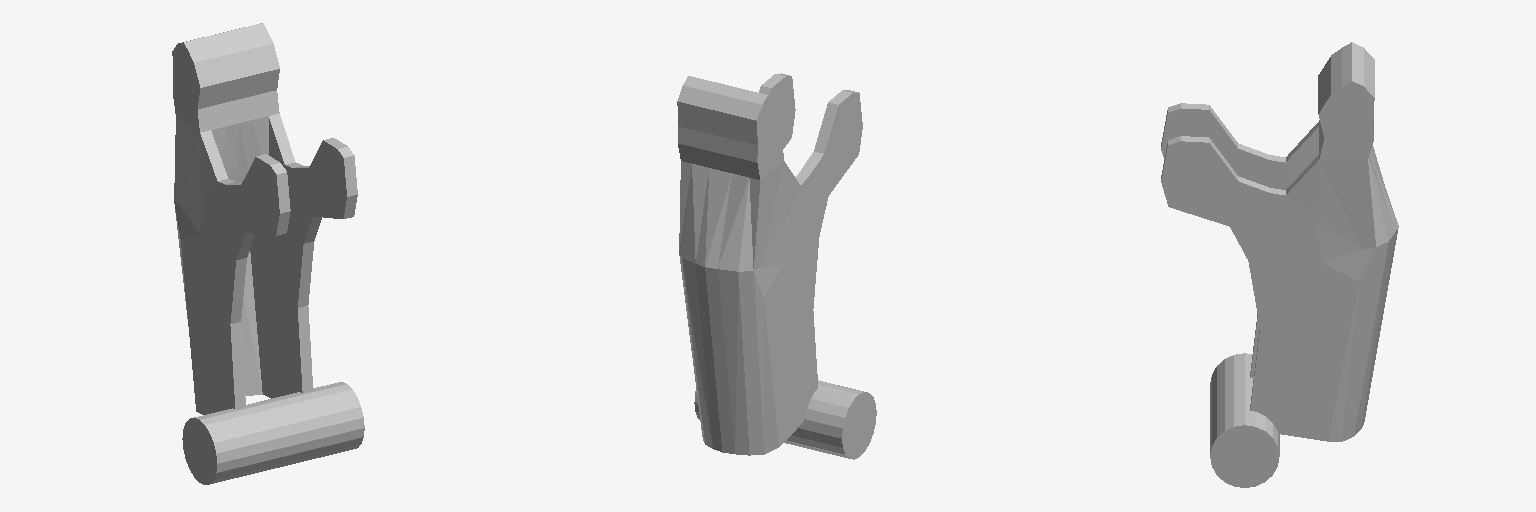
The model's file is switch_pin_lid.obj.
3 views of the same model, side by side, from view 1: azimuth 30°, elevation 25°; view 2: azimuth 150°, elevation 25°; view 3: azimuth 270°, elevation 25° (orthographic).
Bounding box in the file's own units: 0.1264 × 0.3211 × 0.1763.